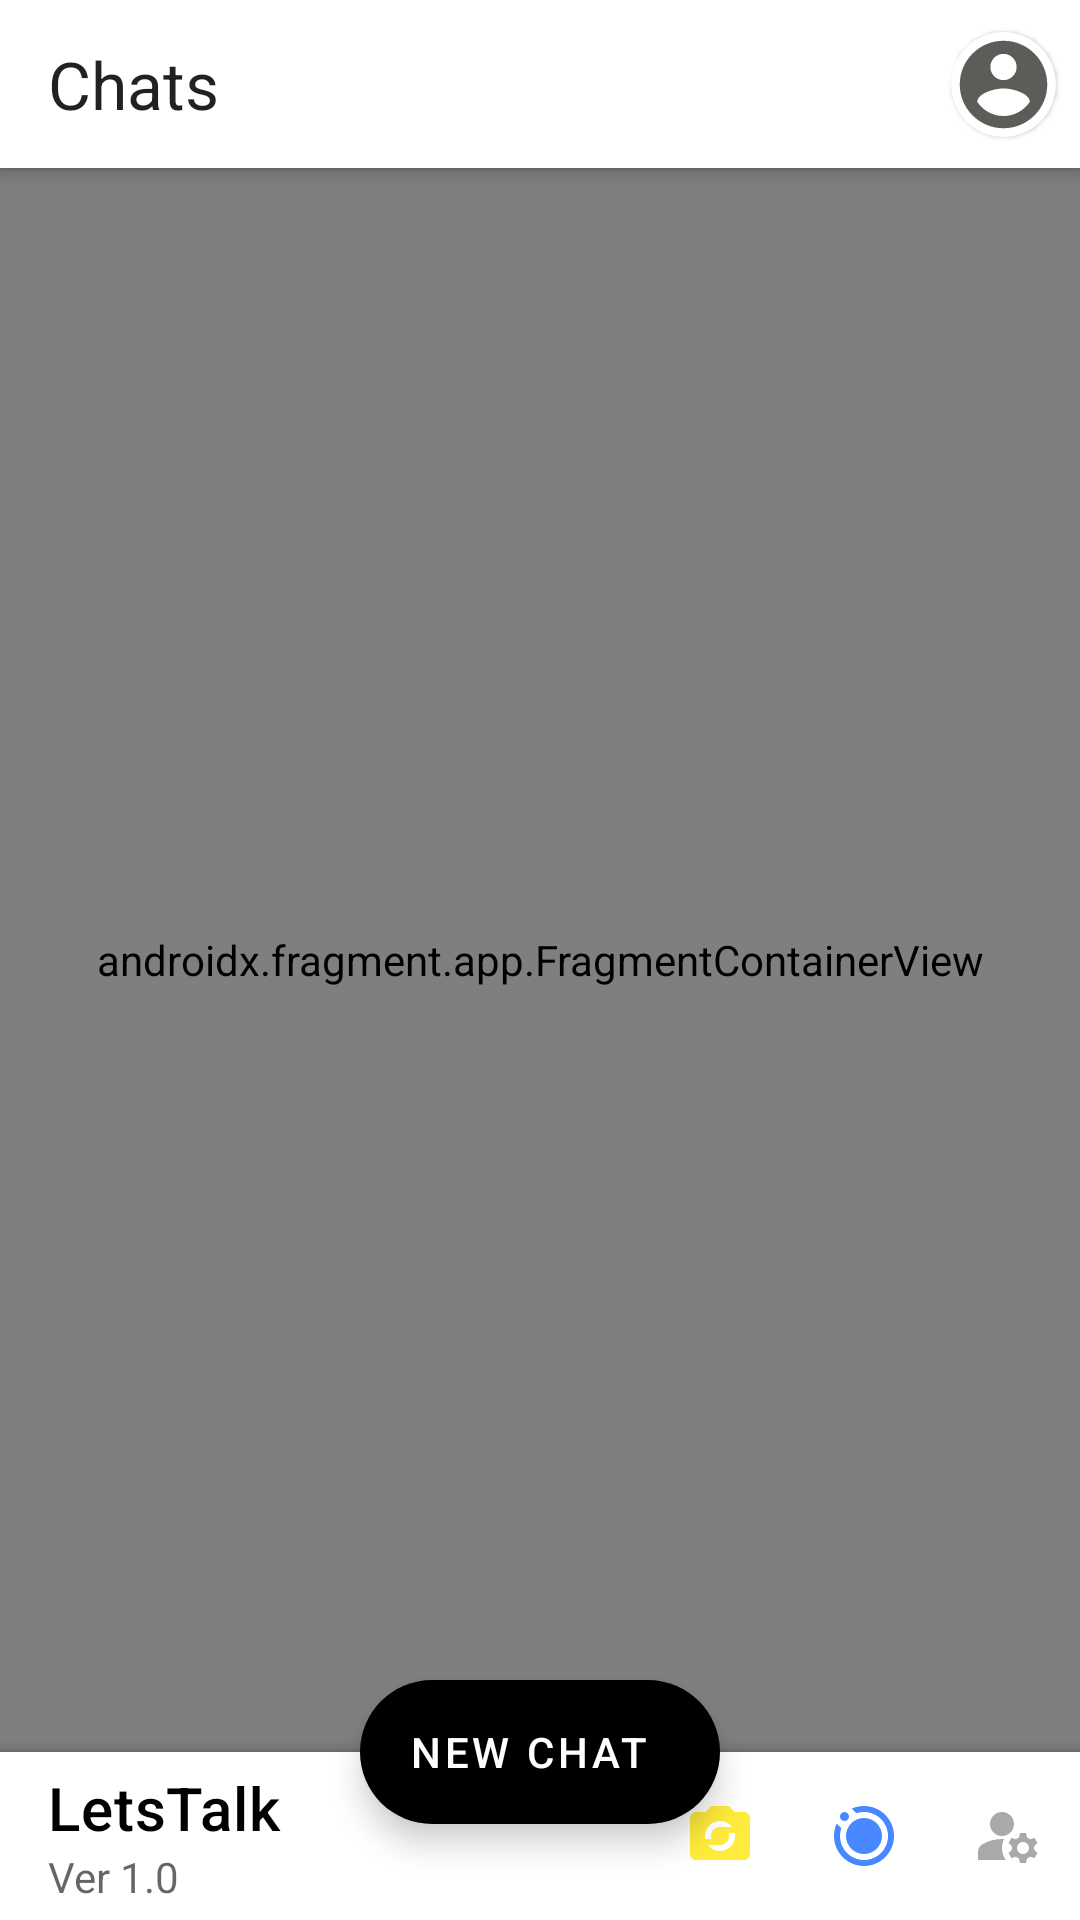

Point at icon controls on the screen. Image size 1080*1920, points as (x,y).
account circle: (1007,84)
